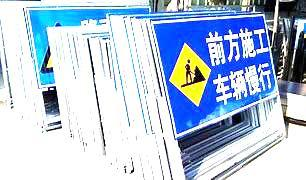sign: (156, 21, 281, 106)
